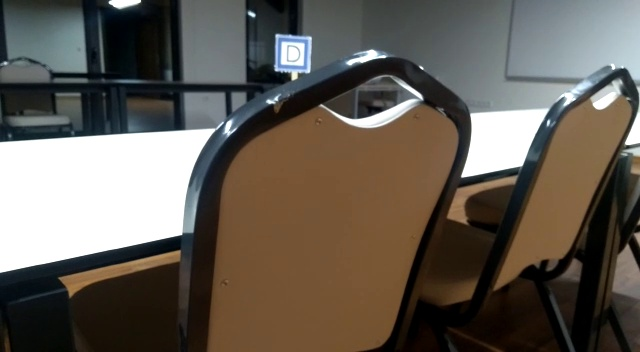durak: (272, 33, 312, 77)
